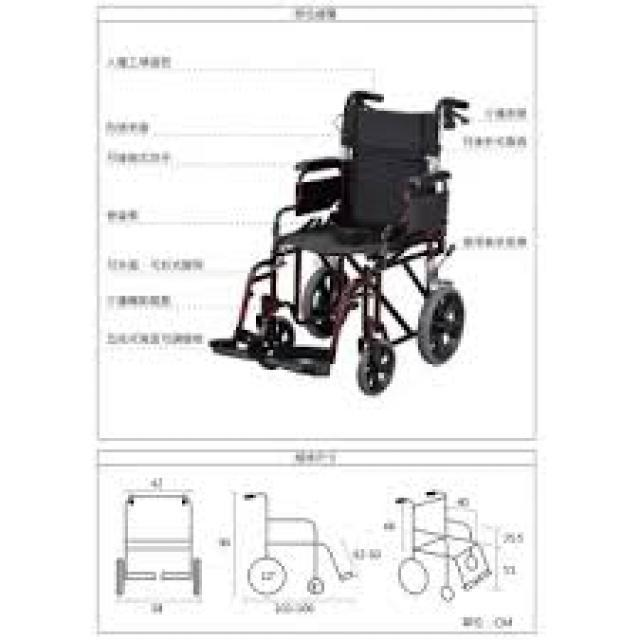wheelchair: (202, 73, 478, 396)
